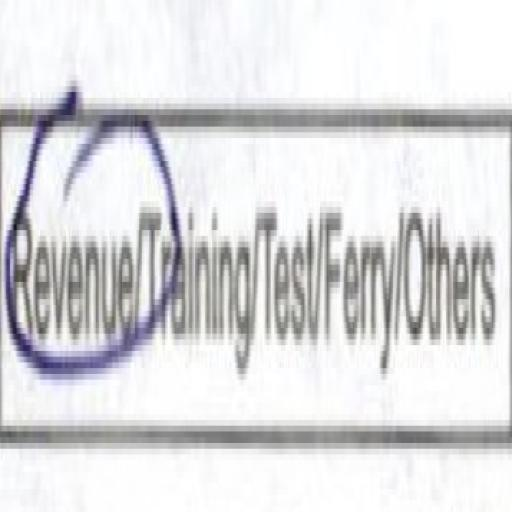check: (3, 0, 141, 504)
